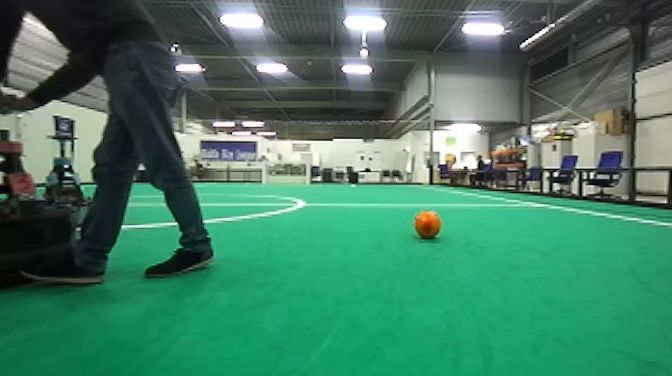ball: (411, 207, 443, 244)
goal: (262, 158, 312, 191)
goalpost: (259, 158, 270, 190), (305, 161, 312, 190)
human: (1, 1, 219, 293)
robot: (1, 99, 78, 290), (37, 111, 94, 231)
